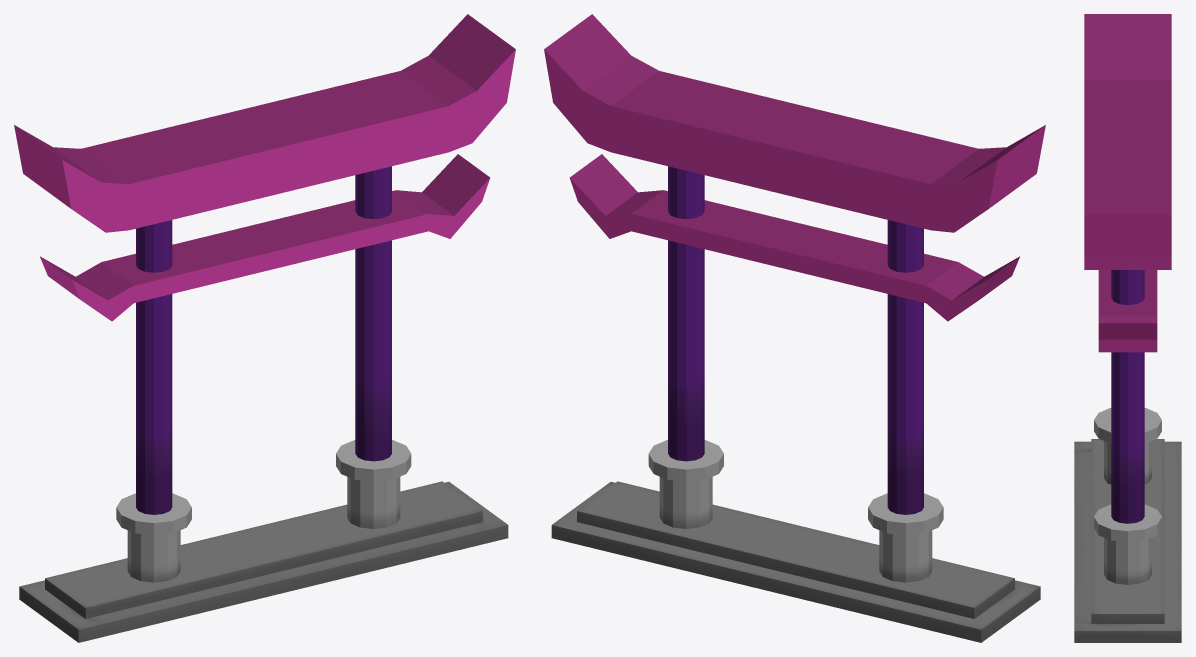
The model's file is build_tori.fbx.
3 renders of one model, left to right at view 1: azimuth 30°, elevation 25°; view 2: azimuth 150°, elevation 25°; view 3: azimuth 270°, elevation 25°, orthographic. The views are drawn at different scales.
Visible parts, largest first — view 1: tori_gate; view 2: tori_gate; view 3: tori_gate.
Part boxes in pixels (bbox=[...]): tori_gate: bbox=[14, 14, 515, 642]; tori_gate: bbox=[544, 14, 1045, 642]; tori_gate: bbox=[1074, 14, 1181, 642].
Bounding box in the file's own units: 2171 × 2202 × 491.
